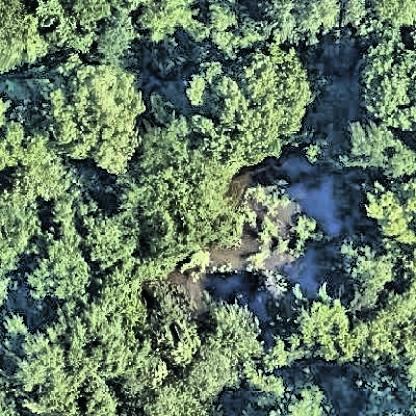tree-top: (122, 122, 247, 265), (181, 41, 313, 172), (46, 52, 153, 176), (21, 303, 139, 391), (358, 36, 416, 134), (205, 295, 274, 371), (342, 120, 416, 185), (13, 132, 77, 205), (294, 294, 360, 364), (26, 239, 96, 303), (253, 2, 341, 46), (1, 193, 47, 275), (81, 206, 137, 273), (362, 180, 416, 249), (43, 1, 106, 58), (1, 3, 47, 78), (138, 1, 211, 45), (254, 376, 333, 416), (359, 311, 416, 366), (349, 250, 394, 318), (97, 5, 147, 66), (156, 317, 210, 369), (144, 386, 215, 416), (183, 354, 236, 391), (1, 102, 29, 171), (86, 377, 124, 416), (376, 1, 416, 32), (205, 3, 238, 36), (341, 1, 368, 28)
